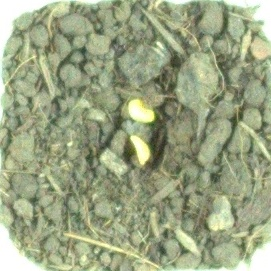pepper seed: (49, 49, 207, 216), (47, 34, 205, 160)
